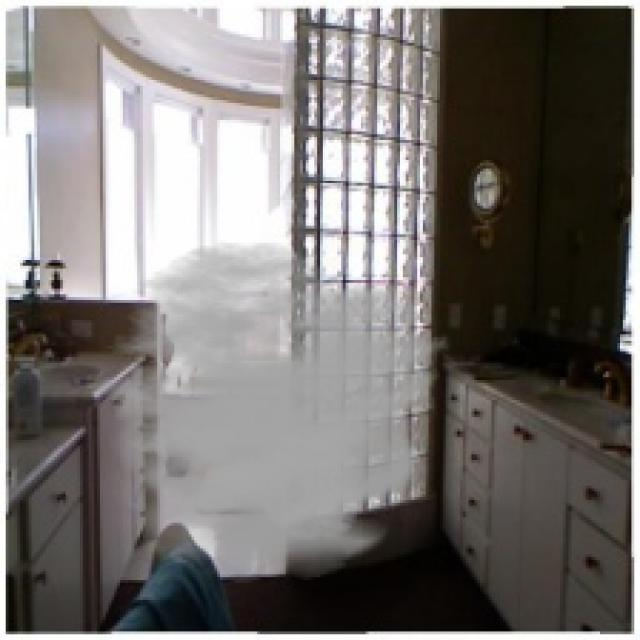Smoke: (69, 240, 452, 583)
